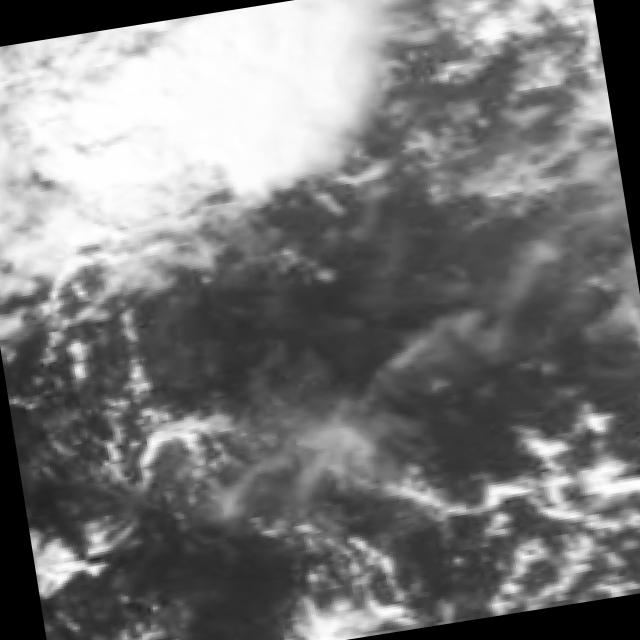CB: (122, 0, 346, 178), (0, 43, 187, 248)
